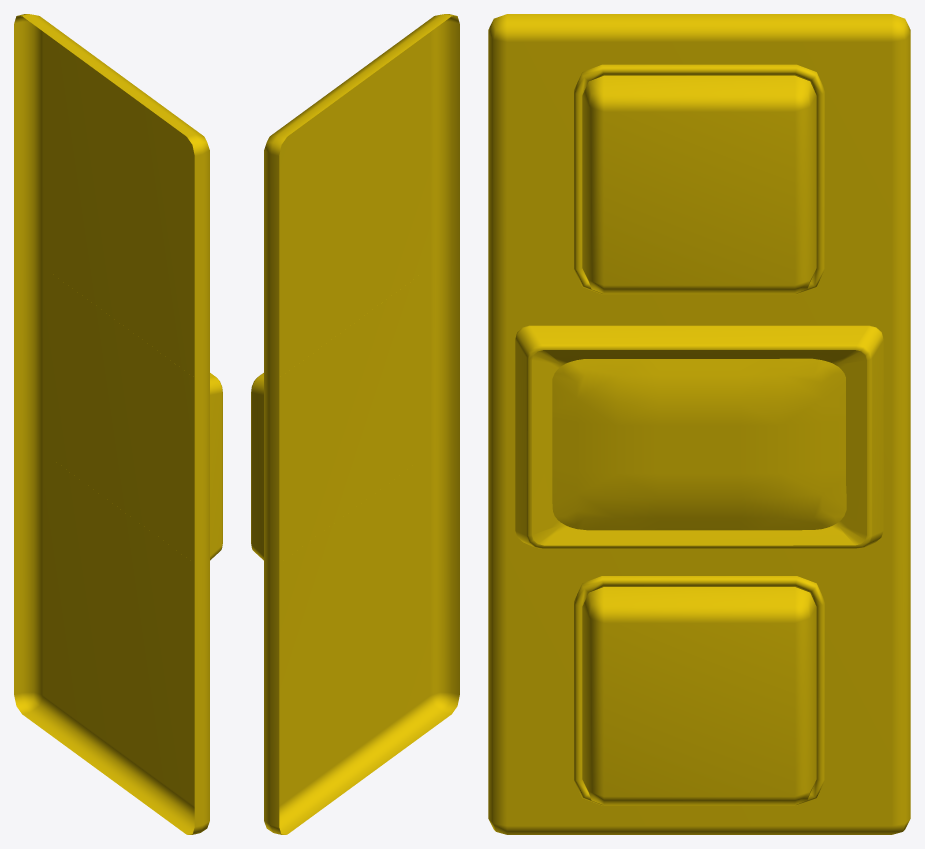
File: bclocker_low.fbx
The picture shows the model from 3 angles, left to right: view 1: azimuth 30°, elevation 25°; view 2: azimuth 150°, elevation 25°; view 3: azimuth 270°, elevation 25°; orthographic projection. The views are drawn at different scales.
Visible parts, largest first — view 1: bclockerbase_high1; view 2: bclockerbase_high1; view 3: bclockerbase_high1, bclockerbutton_high_03, bclockerbutton_high_04.
Boxes of the visible parts, x1,y1,x2,y2 form: bclockerbase_high1: [14, 14, 222, 834]; bclockerbase_high1: [251, 14, 459, 834]; bclockerbase_high1: [488, 14, 910, 834]; bclockerbutton_high_03: [582, 75, 816, 293]; bclockerbutton_high_04: [582, 587, 816, 805].
Size of the model in its own units: 1.8 by 21.05 by 9.88.
